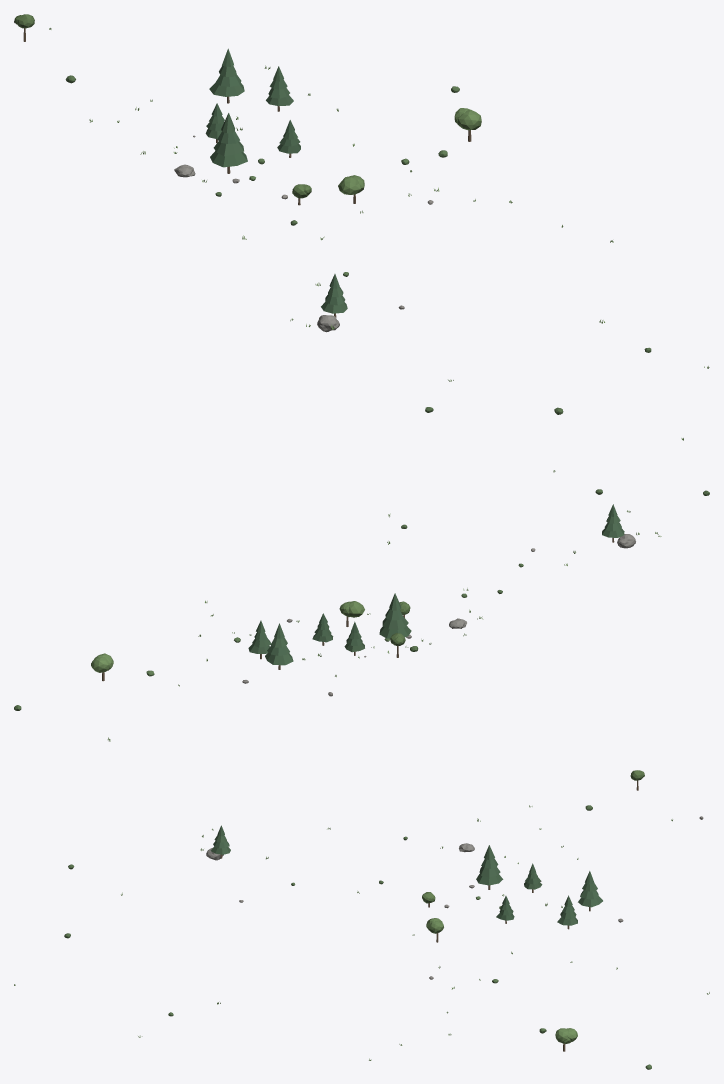
File: arch_land_scatter_c21_19.glb
3 renders of one model, top to bottom at view 1: azimuth 30°, elevation 25°; view 2: azimuth 150°, elevation 25°; view 3: azimuth 270°, elevation 25°, orthographic. The views are drawn at different scales.
Parts seen in each view (by area): view 1: arch_land_scatter_c21_19; view 2: arch_land_scatter_c21_19; view 3: arch_land_scatter_c21_19.
Boxes of the visible parts, bbox=[...] form: arch_land_scatter_c21_19: bbox=[14, 14, 709, 440]; arch_land_scatter_c21_19: bbox=[14, 470, 709, 741]; arch_land_scatter_c21_19: bbox=[14, 770, 709, 1069].
Size of the model in its own units: 120 by 48.15 by 211.
